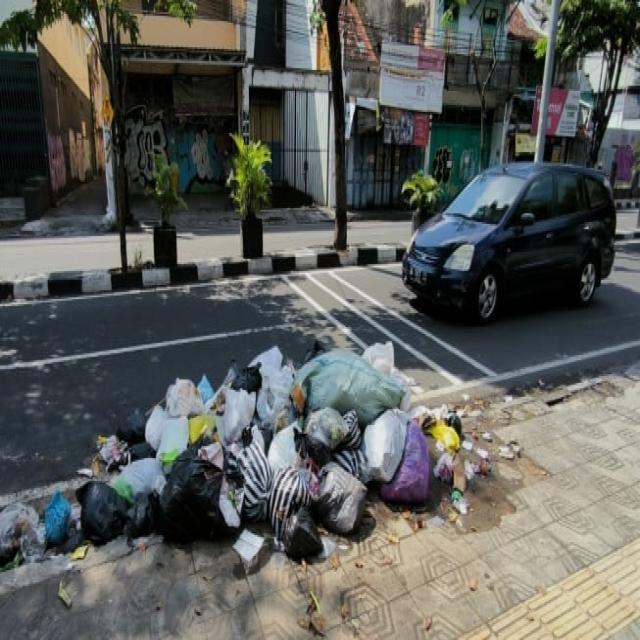trash: (17, 332, 476, 624)
